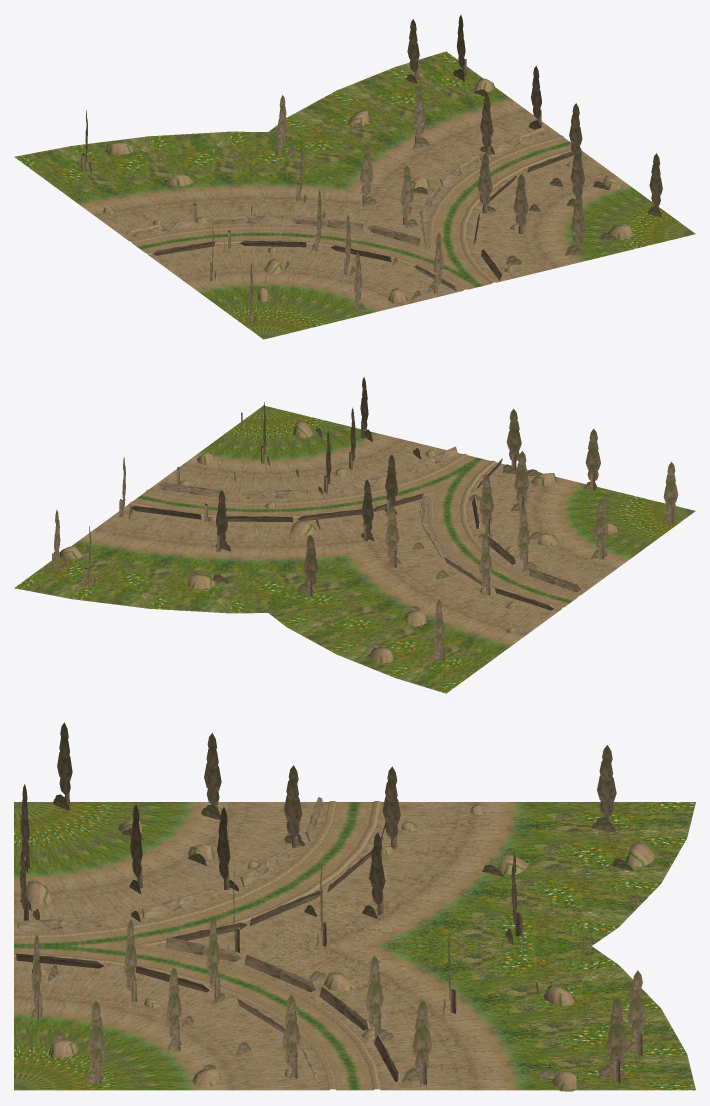
File: VillageRoad01_BothCurve.FBX
3 views of the same model, one above another, from view 1: azimuth 30°, elevation 25°; view 2: azimuth 150°, elevation 25°; view 3: azimuth 270°, elevation 25° (orthographic). The views are drawn at different scales.
Parts seen in each view (by area): view 1: Road, Tree (×9), Fence (×3); view 2: Road, Tree (×14), Fence (×2); view 3: Road, Tree (×18), Fence (×8).
Part boxes in pixels (x1=…): Road: x1=14, y1=51, x2=695, y2=339; Tree (×9): x1=359, y1=19, x2=586, y2=248; Fence (×3): x1=127, y1=215, x2=363, y2=236; Road: x1=14, y1=405, x2=695, y2=693; Tree (×14): x1=215, y1=409, x2=678, y2=661; Fence (×2): x1=158, y1=482, x2=307, y2=499; Road: x1=14, y1=801, x2=695, y2=1090; Tree (×18): x1=31, y1=722, x2=646, y2=1085; Fence (×8): x1=16, y1=847, x2=369, y2=1030.
Bounding box in the file's own units: 10011 × 1406 × 10000.
